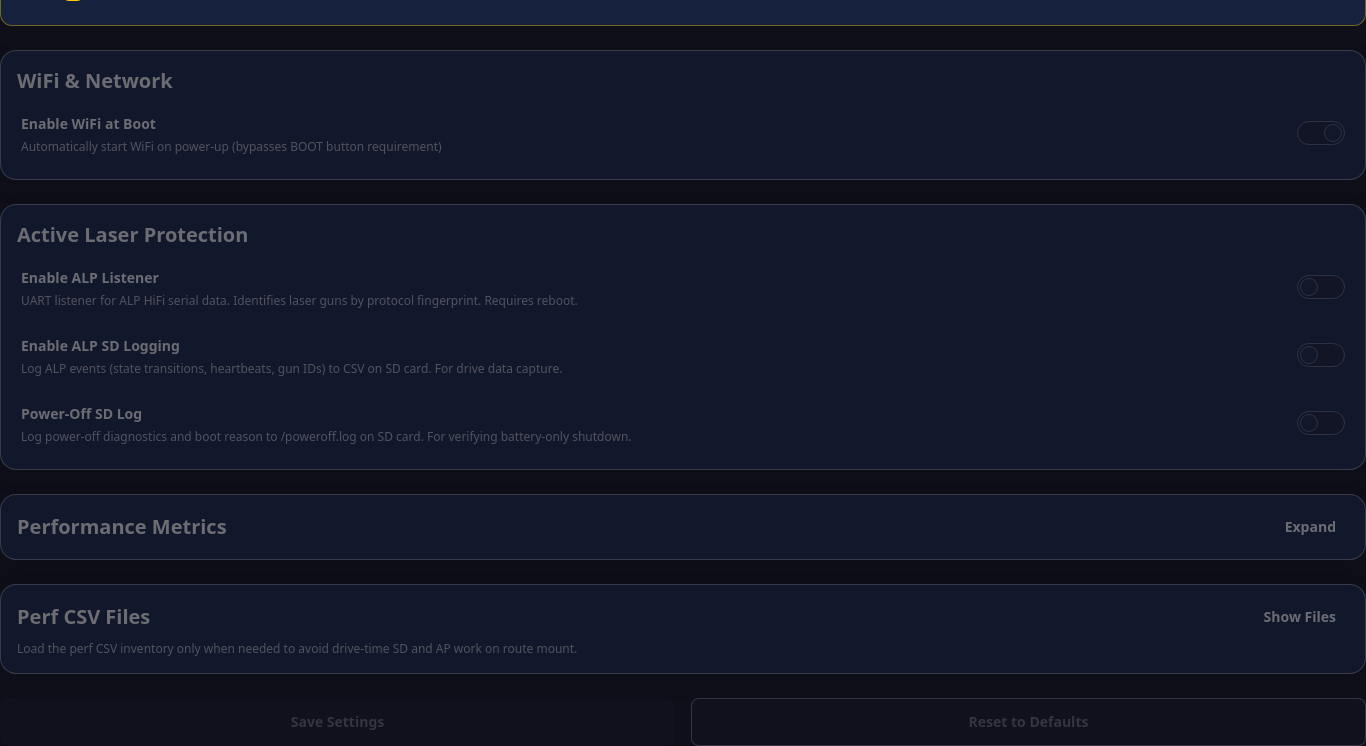
Scenario: dev route page › keeps the metrics panel usable when metrics fetch fails
(page scrolled)
Expected: the text "Enable WiFi at Boot" is shown, x1=21 y1=114 x2=156 y2=133
What coordinates should you click on to do the following:
click the button "Expand"
I would click on:
 (1310, 527)
Its box is x1=1272 y1=511 x2=1349 y2=543.
Wait 150 ms
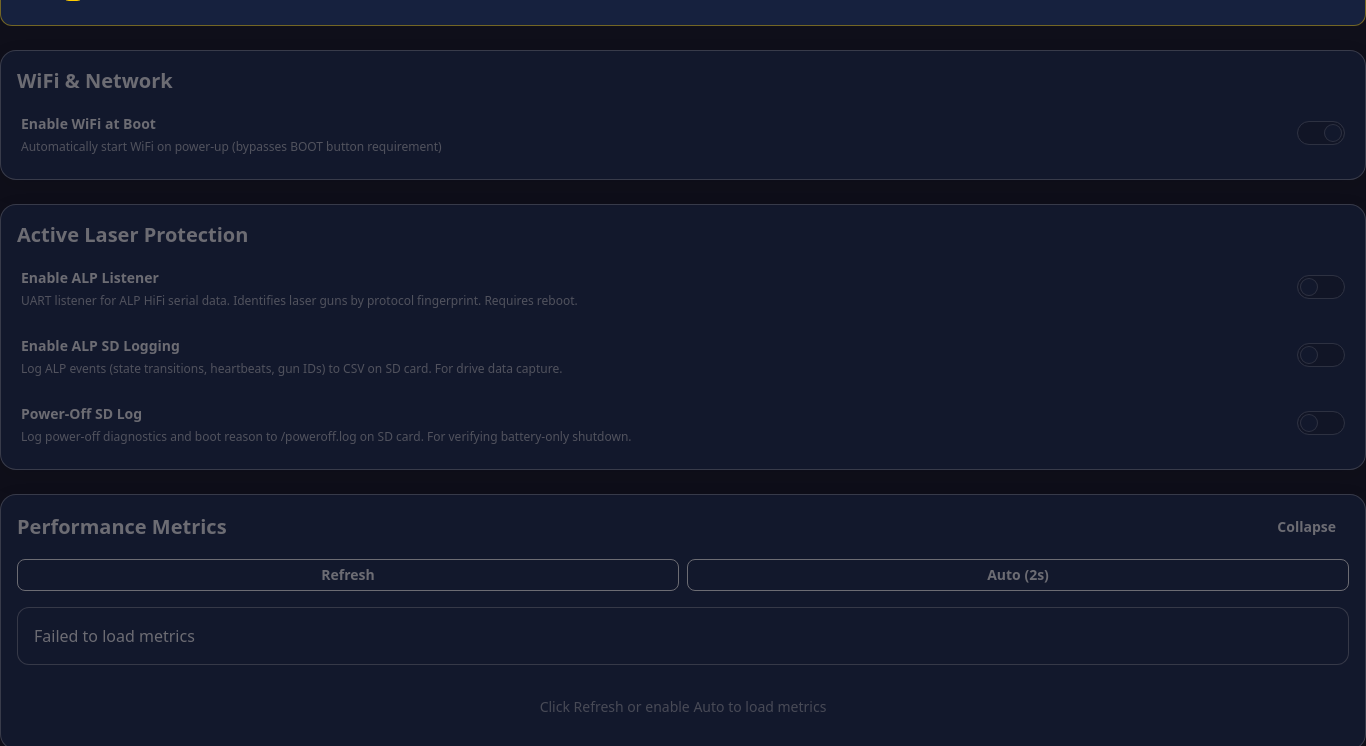
Expected: the text "Click Refresh or enable Auto to load metrics" is shown, x1=540 y1=697 x2=826 y2=716
Expected: the text "Failed to load metrics" is shown, x1=34 y1=624 x2=195 y2=648
